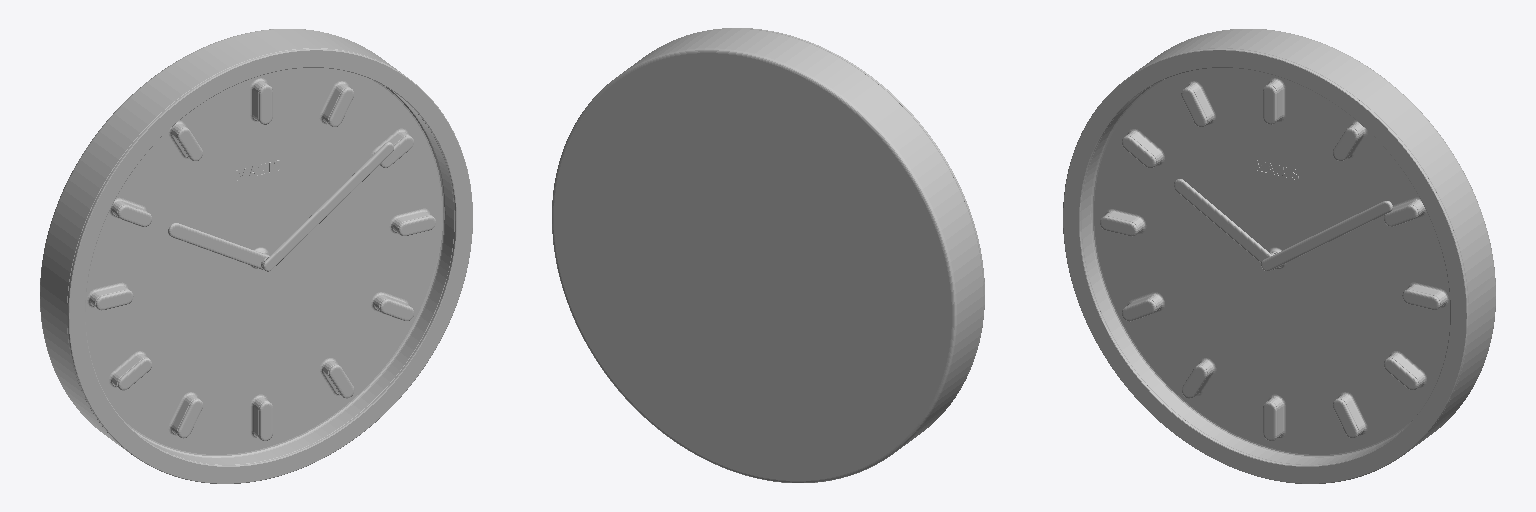
The model's file is Tempo clock_obj.obj.
3 renders of one model, left to right at view 1: azimuth 30°, elevation 25°; view 2: azimuth 150°, elevation 25°; view 3: azimuth 330°, elevation 25°, orthographic.
Visible parts, largest first — view 1: Tempo_clock_base, Tempo_clock_outline, Tempo_clock_minute_line, Tempo_clock_hour_line; view 2: Tempo_clock_base, Tempo_clock_outline; view 3: Tempo_clock_base, Tempo_clock_outline, Tempo_clock_minute_line, Tempo_clock_hour_line.
Part boxes in pixels (left/top/right/bottom): Tempo_clock_base: left=40, top=29, right=454, bottom=464; Tempo_clock_outline: left=67, top=48, right=472, bottom=483; Tempo_clock_minute_line: left=261, top=142, right=393, bottom=271; Tempo_clock_hour_line: left=168, top=223, right=269, bottom=269; Tempo_clock_base: left=552, top=29, right=983, bottom=482; Tempo_clock_outline: left=657, top=28, right=984, bottom=411; Tempo_clock_base: left=1081, top=29, right=1495, bottom=464; Tempo_clock_outline: left=1063, top=48, right=1468, bottom=483; Tempo_clock_minute_line: left=1261, top=201, right=1392, bottom=270; Tempo_clock_hour_line: left=1174, top=179, right=1275, bottom=269.
Size of the model in its own units: 29.96 by 29.96 by 3.87.